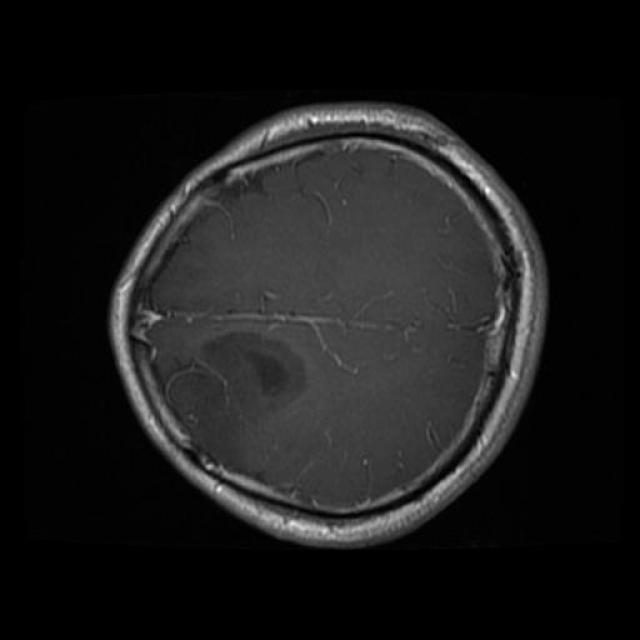Glioma: (200, 330, 304, 410)
